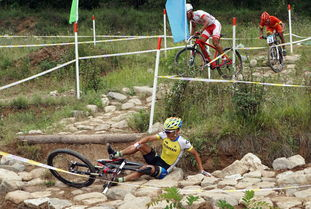fall: (100, 109, 206, 185)
